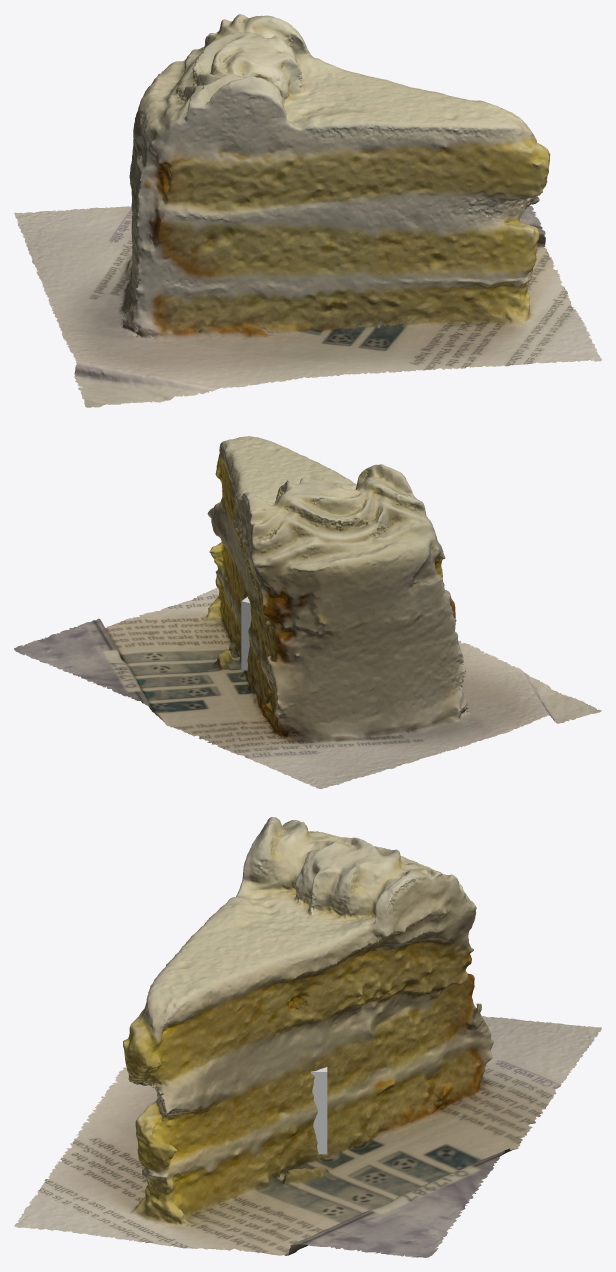
The model's file is cake_slice_moved.glb.
3 renders of one model, top to bottom at view 1: azimuth 30°, elevation 25°; view 2: azimuth 150°, elevation 25°; view 3: azimuth 270°, elevation 25°, orthographic. The views are drawn at different scales.
Visible parts, largest first — view 1: Object_3, Object_2, Object_4; view 2: Object_2, Object_3, Object_4, Cube; view 3: Object_3, Object_2, Object_4, Cube.
Boxes of the visible parts, box(x1,y1,x2,y2) form: Object_3: box(136, 14, 601, 380); Object_2: box(14, 58, 550, 407); Object_4: box(76, 15, 540, 397); Object_2: box(109, 436, 601, 788); Object_3: box(14, 441, 473, 736); Object_4: box(73, 437, 551, 769); Cube: box(241, 597, 251, 670); Object_3: box(14, 837, 514, 1257); Object_2: box(73, 837, 601, 1252); Object_4: box(41, 817, 573, 1227); Cube: box(310, 1067, 327, 1154).
Bounding box in the file's own units: 14.94 × 6.75 × 12.92.
Materials: 2 (1 with a texture image).
